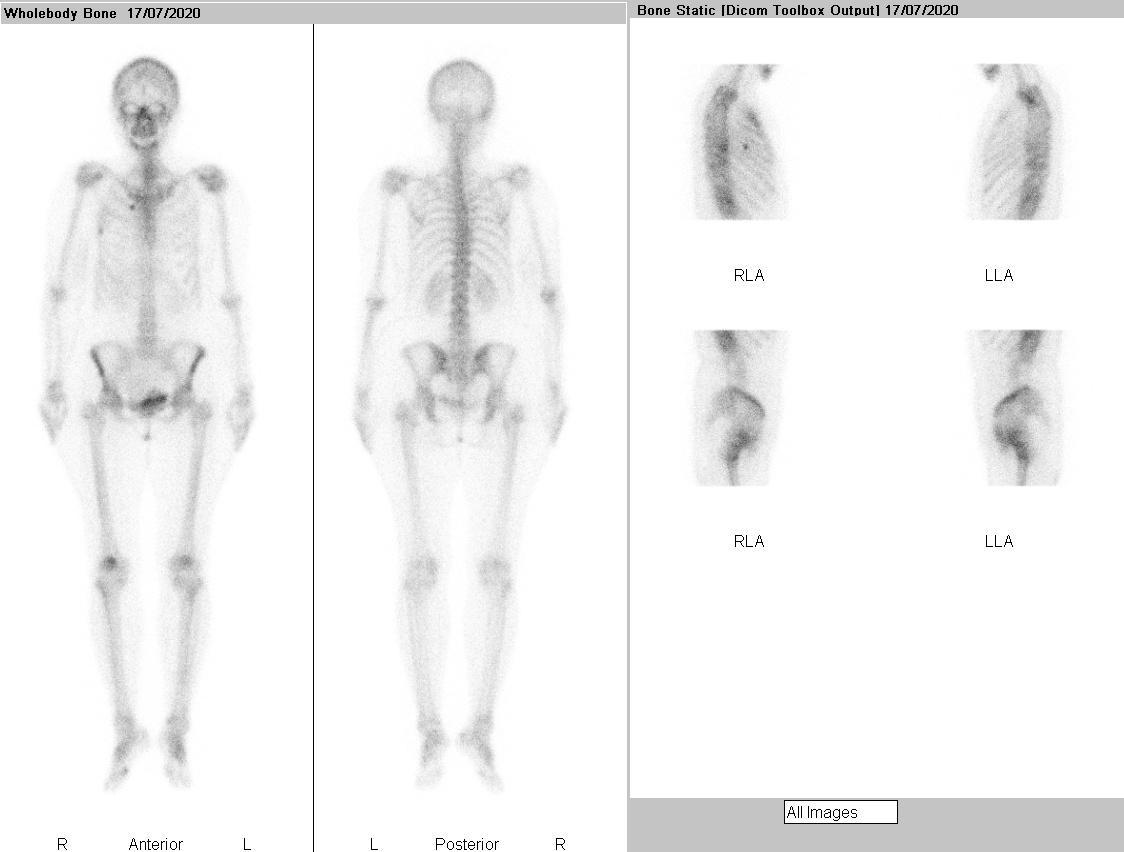person: (1, 23, 626, 852)
